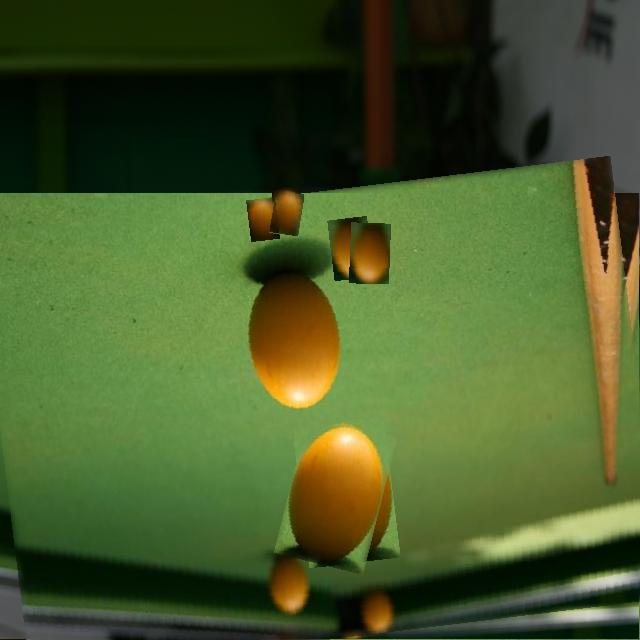Ball: (282, 420, 390, 571), (350, 223, 390, 284), (270, 191, 302, 236)
Billiard table: (0, 174, 640, 640)
